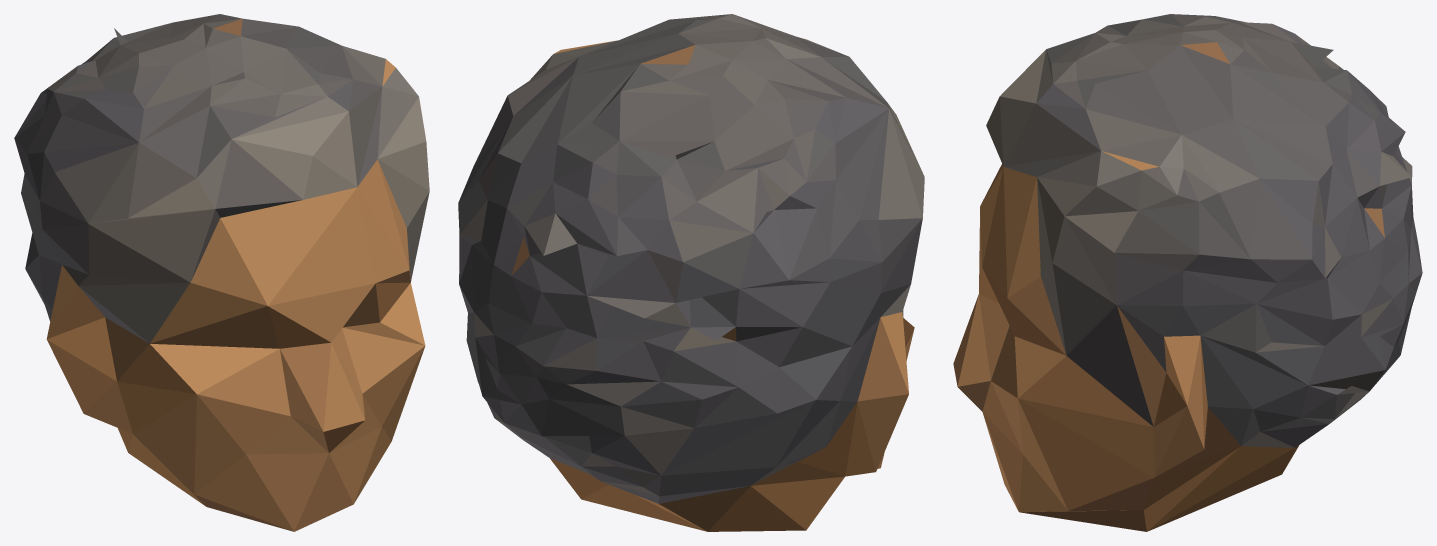
The model's file is ndelder-head.glb.
3 views of the same model, side by side, from view 1: azimuth 30°, elevation 25°; view 2: azimuth 150°, elevation 25°; view 3: azimuth 270°, elevation 25° (orthographic). The views are drawn at different scales.
Visible parts, largest first — view 1: ndelder-head; view 2: ndelder-head; view 3: ndelder-head.
Boxes of the visible parts, bbox=[...] form: ndelder-head: bbox=[14, 14, 429, 531]; ndelder-head: bbox=[458, 14, 924, 531]; ndelder-head: bbox=[953, 14, 1422, 531].
Bounding box in the file's own units: 0.8667 × 0.9929 × 0.8894.
